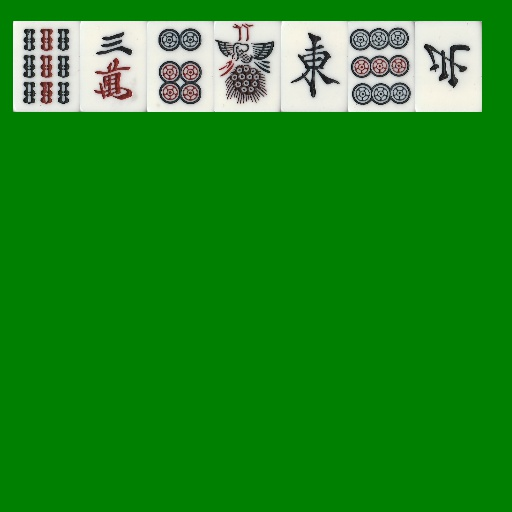1s: (214, 21, 281, 112)
3m: (80, 21, 147, 112)
6p: (147, 21, 214, 112)
9p: (348, 21, 415, 112)
9s: (13, 21, 80, 112)
east: (281, 21, 348, 112)
north: (415, 21, 482, 112)
